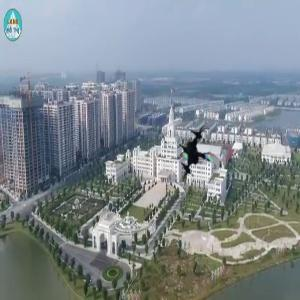drone: (169, 127, 228, 186)
